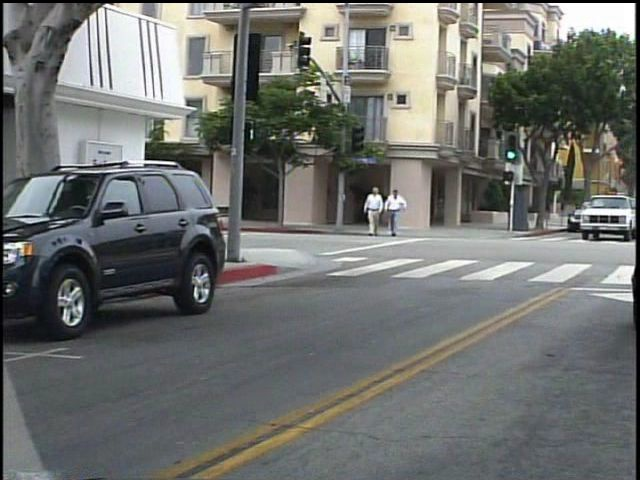person: (369, 182, 393, 244), (388, 185, 414, 242)
